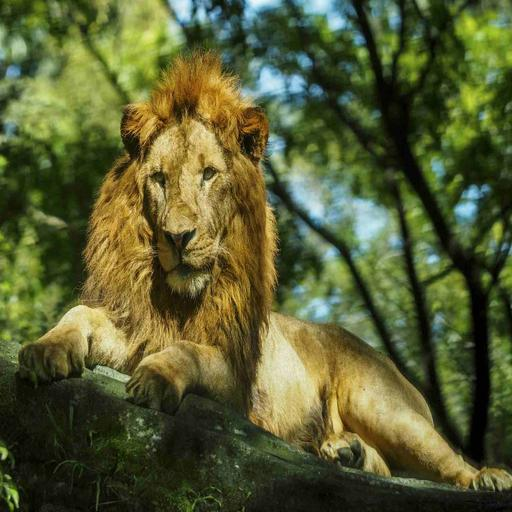Lion: (16, 48, 512, 512)
